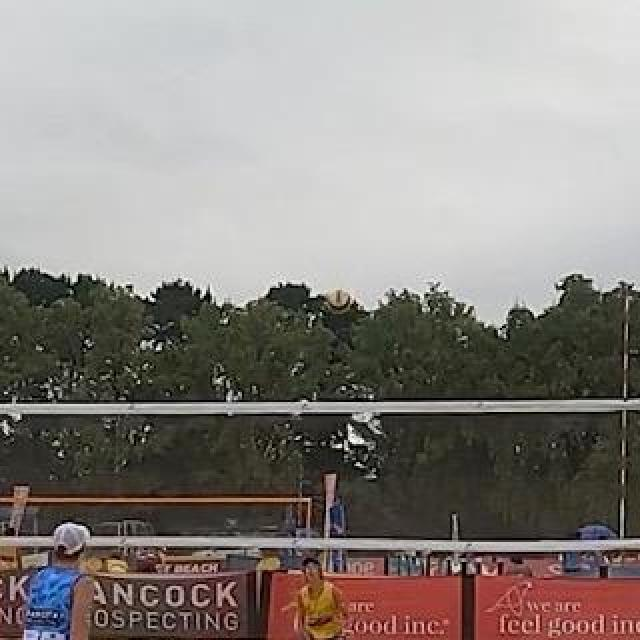volleyball: (328, 288, 352, 312)
